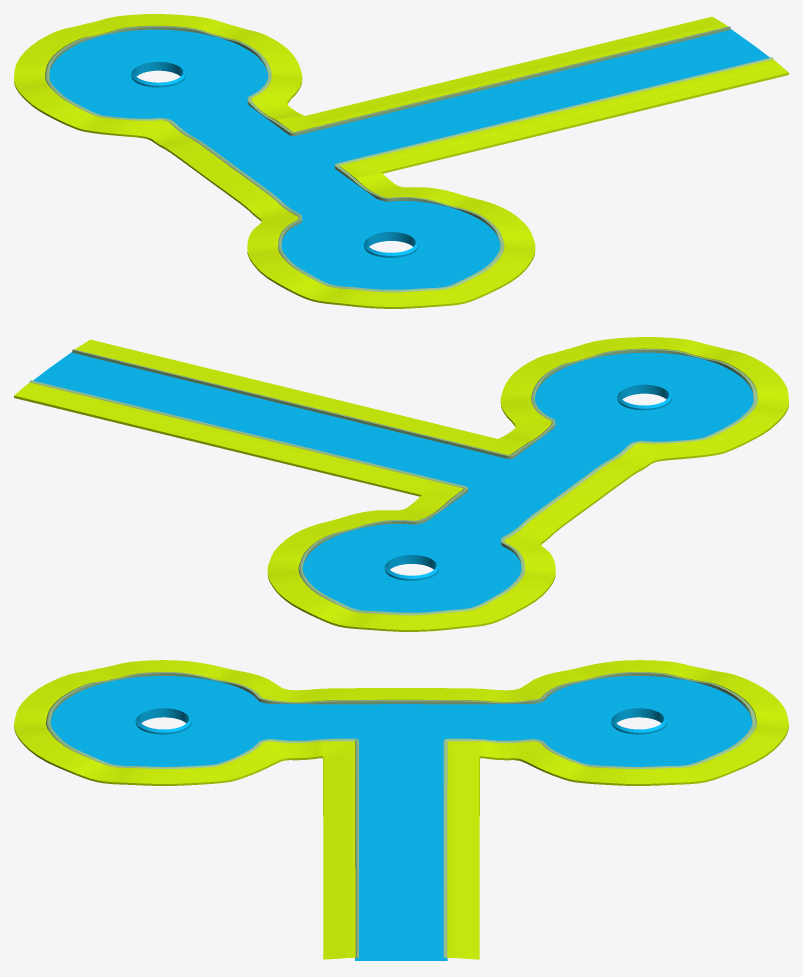
Rendered from cul de sac road.FBX.
3 renders of one model, top to bottom at view 1: azimuth 30°, elevation 25°; view 2: azimuth 150°, elevation 25°; view 3: azimuth 270°, elevation 25°, orthographic. The views are drawn at different scales.
Parts seen in each view (by area): view 1: road, sidewalk, curb; view 2: road, sidewalk, curb; view 3: road, sidewalk, curb.
Part boxes in pixels (x1,y1,x2,y2): road: [49, 29, 769, 289]; sidewalk: [14, 14, 788, 308]; curb: [45, 26, 773, 292]; road: [33, 352, 753, 612]; sidewalk: [14, 337, 788, 631]; curb: [29, 348, 757, 615]; road: [50, 676, 752, 960]; sidewalk: [14, 660, 788, 959]; curb: [46, 672, 756, 959].
Bounding box in the file's own units: 6295 × 89.27 × 6865.
